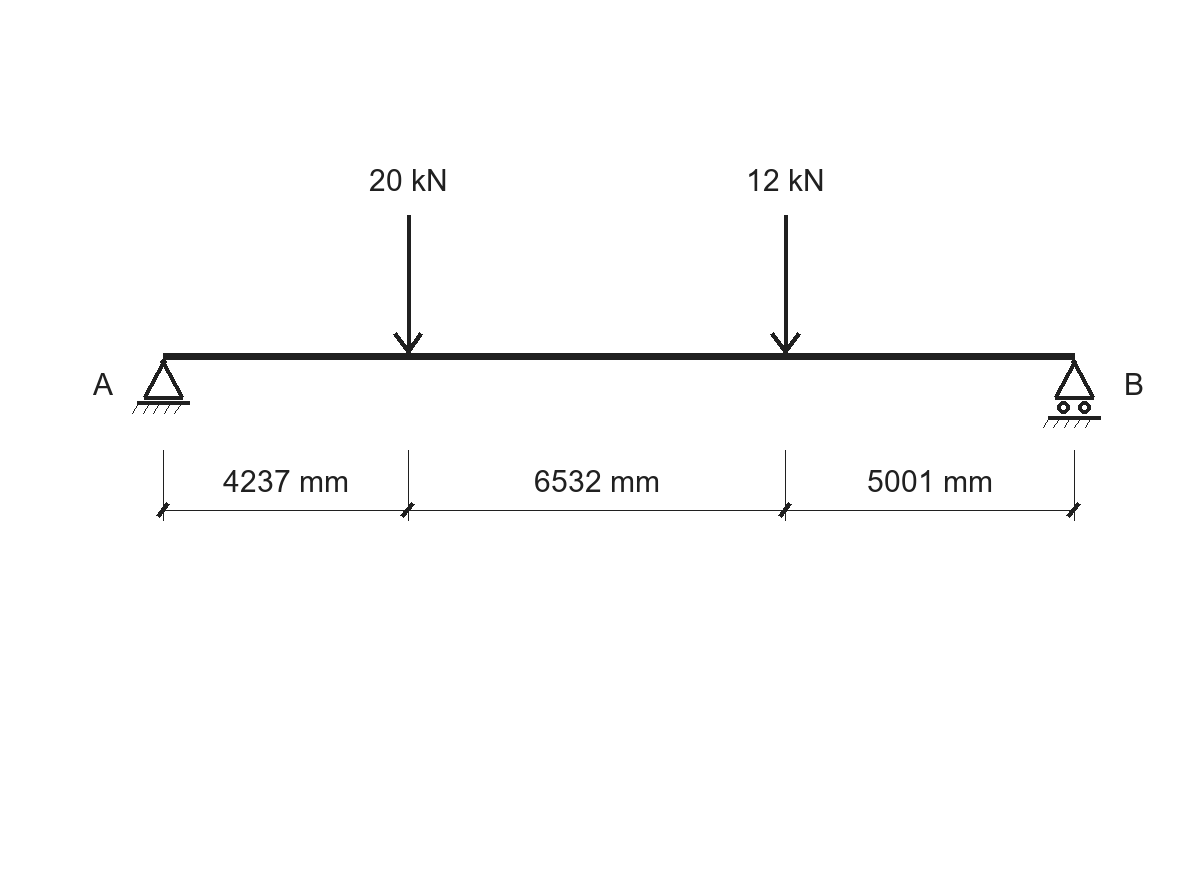pin_support: (132, 359, 190, 414)
point_load: (770, 215, 801, 354), (393, 215, 423, 354)
roller_support: (1043, 359, 1101, 428)
